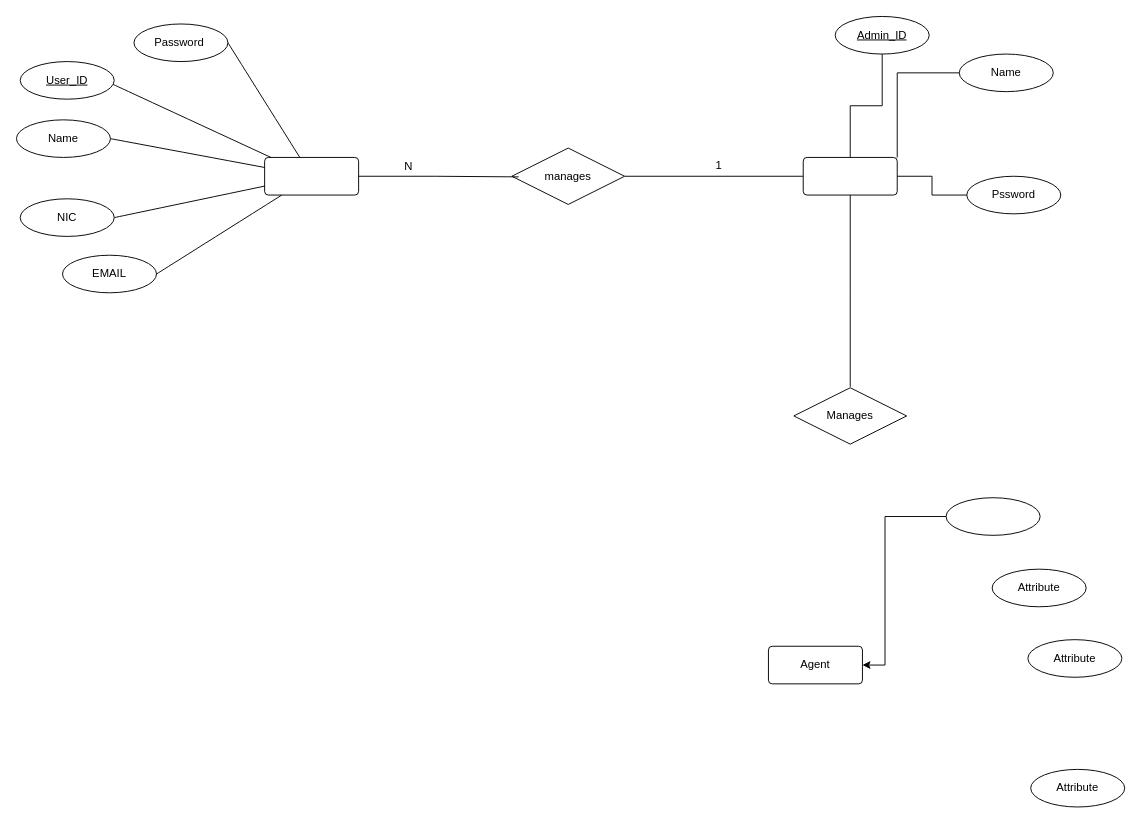
This 1141x823 diagram has some shape labels left out. Here are the shapes that lost their labels. From the top down, the centre of each, then its label:
At pixel 311 176: "User".
At pixel 849 176: "Admin".
At pixel 992 516: "Hotel_ID".
